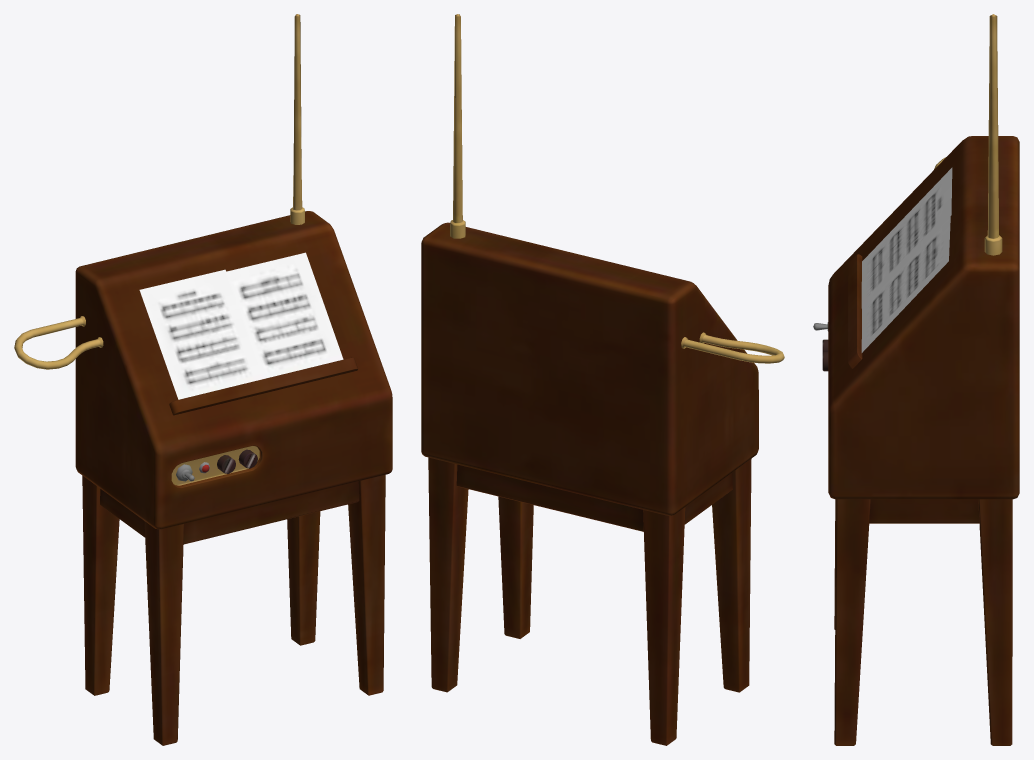
3 views of the same model, side by side, from view 1: azimuth 30°, elevation 25°; view 2: azimuth 150°, elevation 25°; view 3: azimuth 270°, elevation 25° (orthographic). The views are drawn at different scales.
Size of the model in its own units: 8.22 by 15.65 by 4.05.
Materials: 1 (1 with a texture image).
